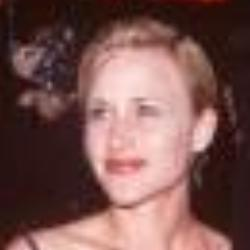face: (48, 13, 225, 213)
